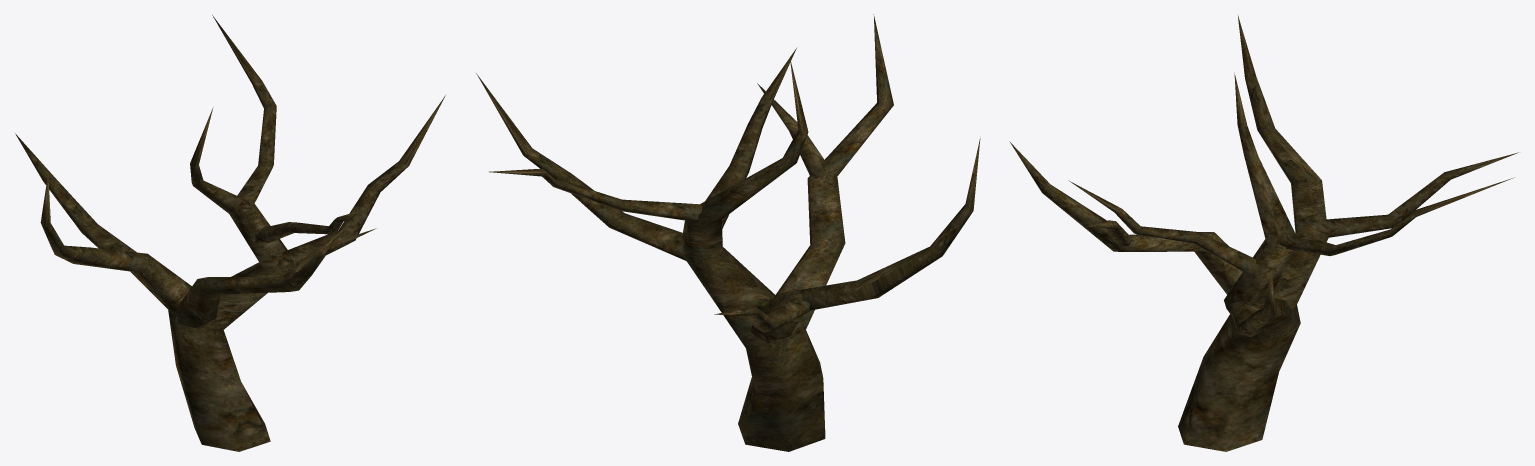
File: CB_BURNT_TREE03.fbx
3 renders of one model, left to right at view 1: azimuth 30°, elevation 25°; view 2: azimuth 150°, elevation 25°; view 3: azimuth 270°, elevation 25°, orthographic. The views are drawn at different scales.
Parts seen in each view (by area): view 1: CB_BURNT_TREE03; view 2: CB_BURNT_TREE03; view 3: CB_BURNT_TREE03.
Boxes of the visible parts, bbox=[...] form: CB_BURNT_TREE03: bbox=[15, 15, 445, 451]; CB_BURNT_TREE03: bbox=[476, 14, 980, 451]; CB_BURNT_TREE03: bbox=[1009, 16, 1518, 451].
Size of the model in its own units: 96864 by 73030 by 95525.
Materials: 1 (1 with a texture image).
